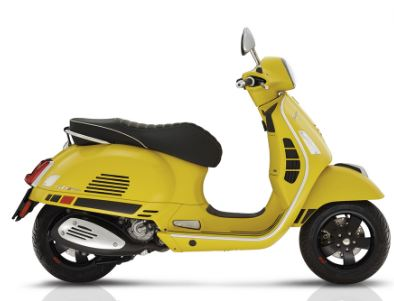bike: (11, 27, 392, 296)
